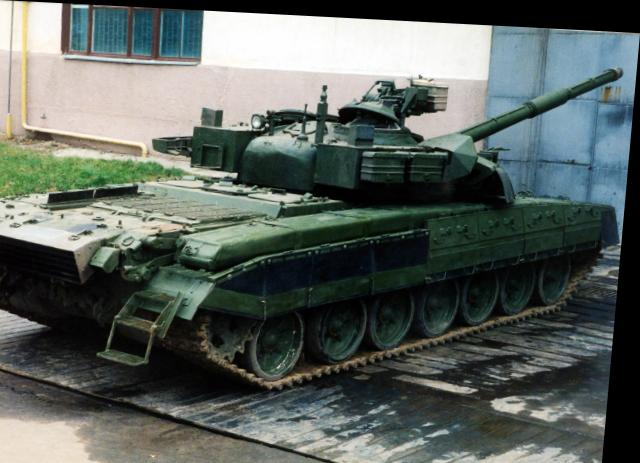tank: (0, 91, 625, 397)
